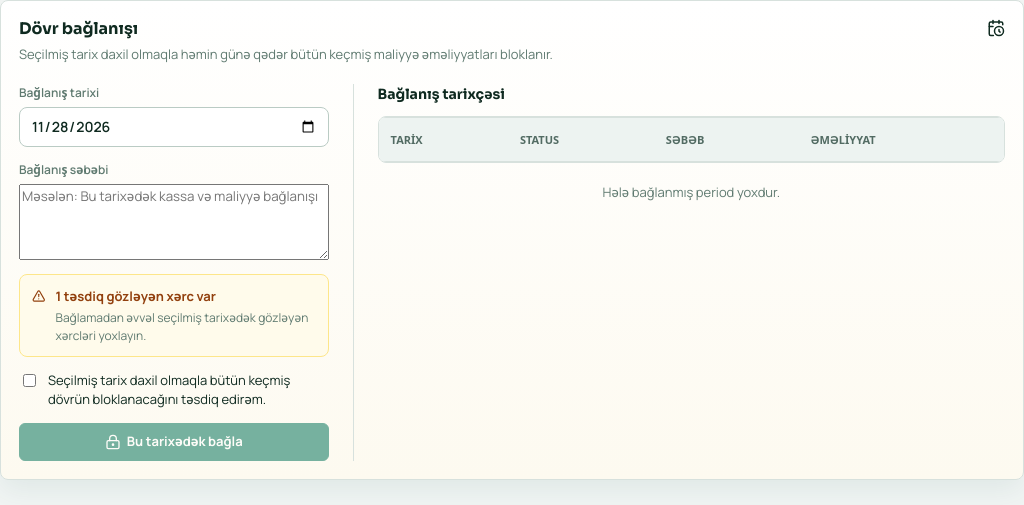
Scenario: finance period close panel › needs a reason and confirmation, then locks up to the chosen date
This screenshot has width=1024, height=505.
Later steps or results of the test are not shown.
expect the text "1 təsdiq gözləyən xərc var" is shown: met, box x1=56 y1=287 x2=216 y2=305
expect the button "Bu tarixədək bağla" is disabled: met, box x1=19 y1=423 x2=329 y2=461
Step 1. Type "Noyabr bağlanışı" into the text box with placeholder "Məsələn: Bu tarixədək kassa və maliyyə bağlanışı" → (174, 222), box x1=19 y1=184 x2=329 y2=260
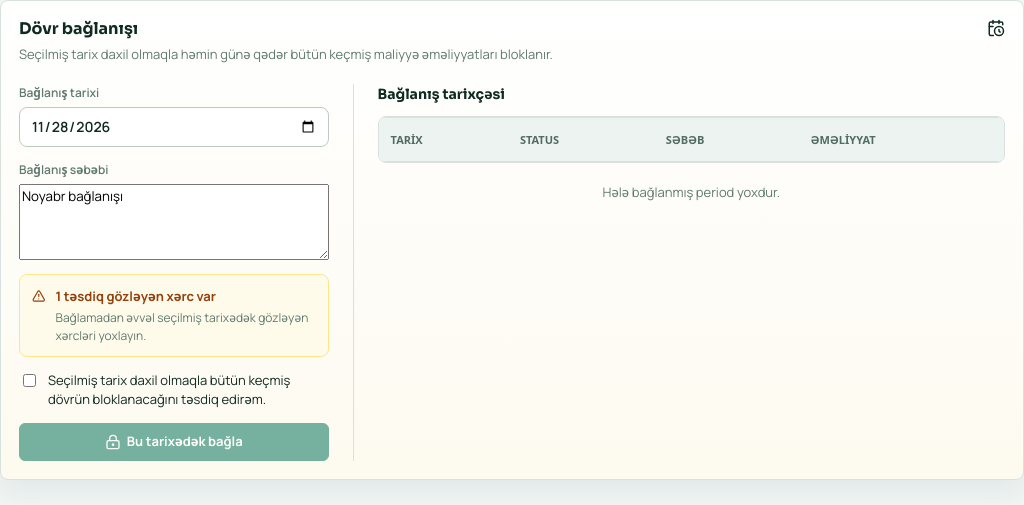
Step 2. Click the checkbox → (30, 380), box x1=23 y1=374 x2=36 y2=387
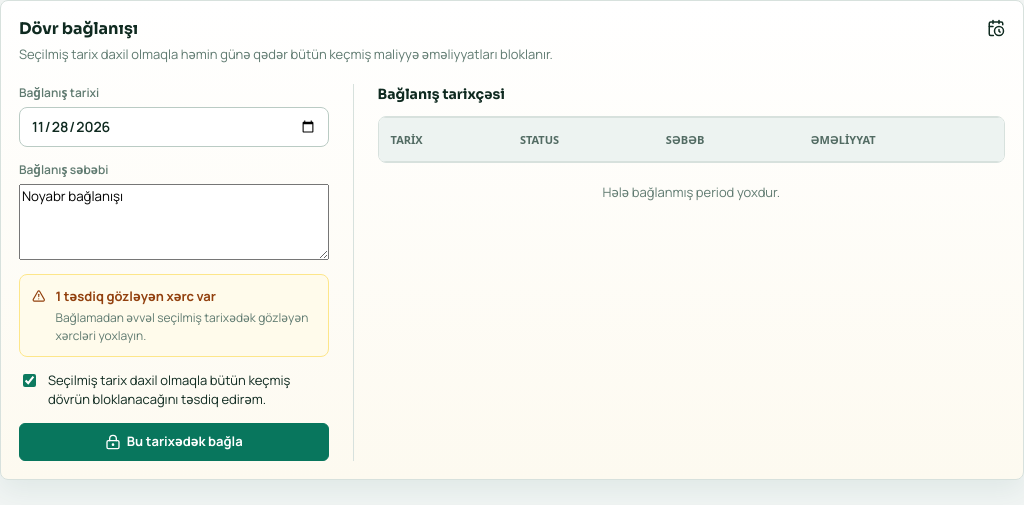
expect the button "Bu tarixədək bağla" is enabled: met, box x1=19 y1=423 x2=329 y2=461
